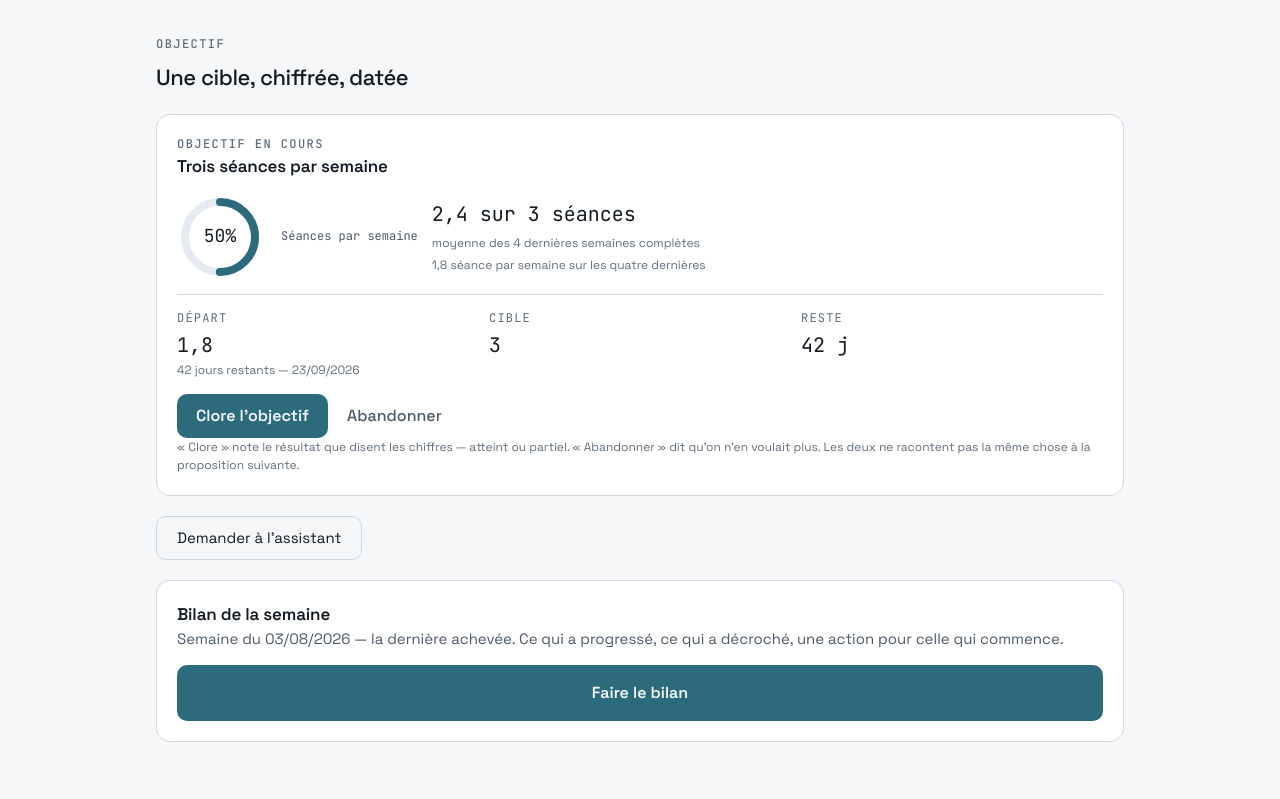
Test: bilan hebdomadaire › n'historise rien tant que le bilan n'est pas conservé
Click the button "Faire le bilan" at (640, 693), box [177,665,1103,721]
(page scrolled)
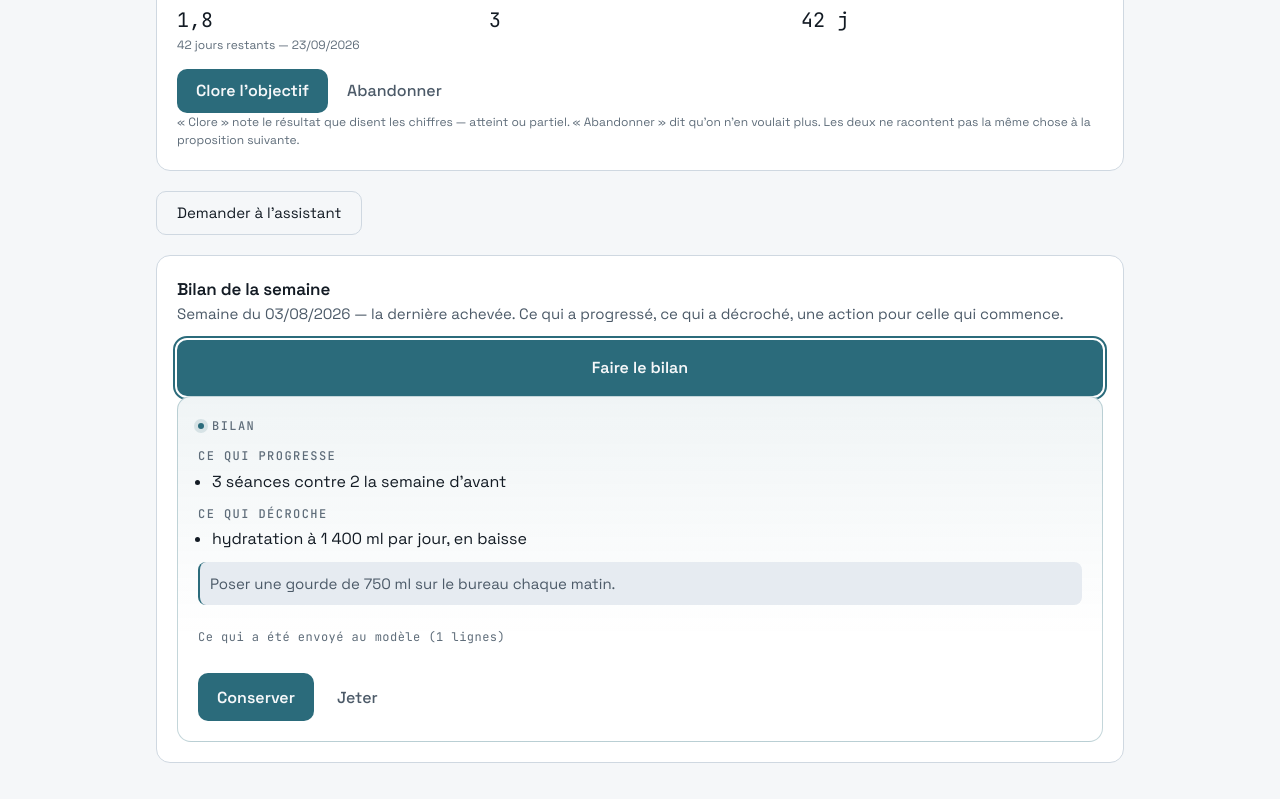
Check: the text "Poser une gourde de 750 ml sur le bureau chaque matin." is shown, box [198,562,1082,605]
